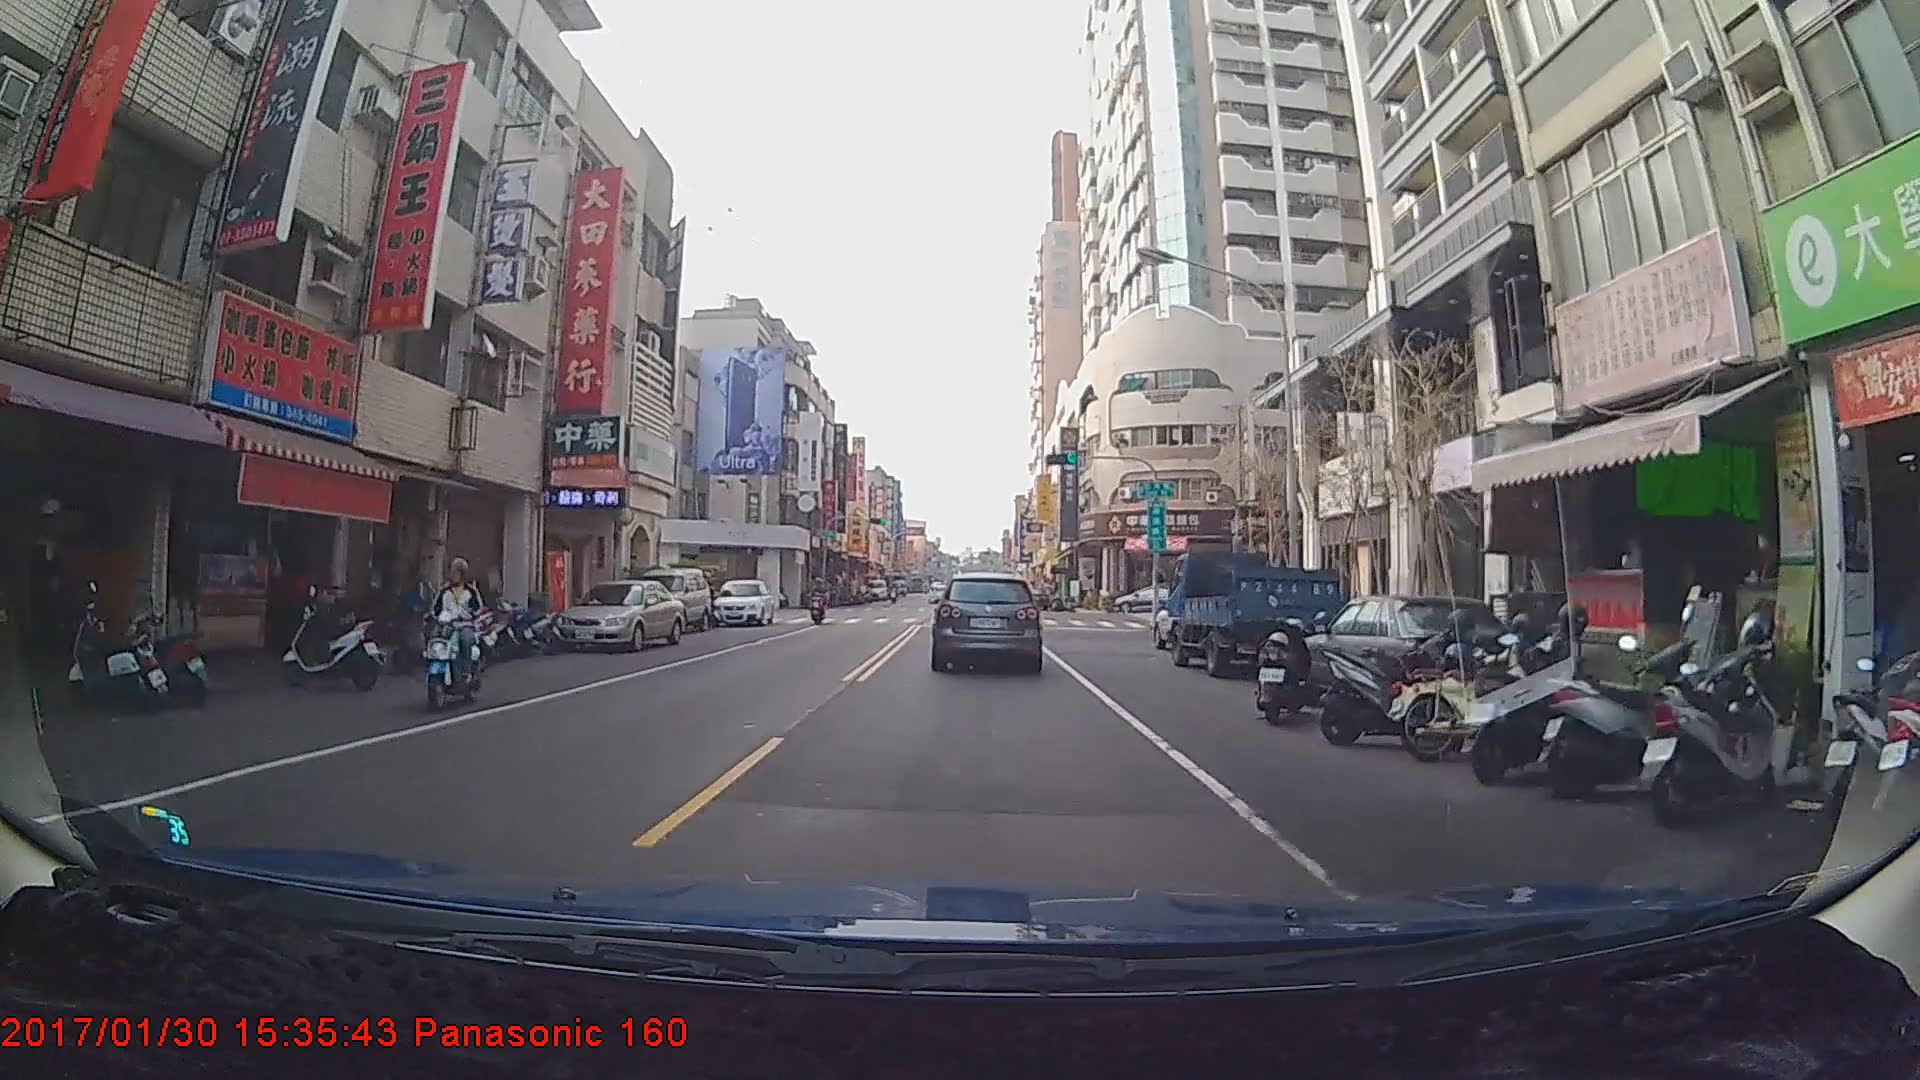rider: (419, 556, 491, 708), (807, 579, 829, 626)
vehicle: (1164, 549, 1343, 677), (931, 571, 1042, 671), (550, 577, 684, 651), (621, 564, 712, 635), (711, 576, 775, 627), (1113, 581, 1184, 612)
